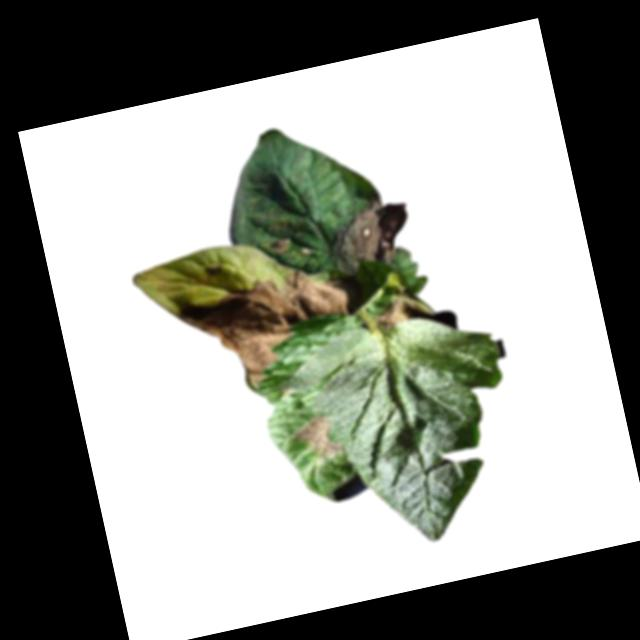Late_blight: (174, 258, 375, 397), (324, 195, 422, 284), (289, 410, 347, 465), (374, 288, 433, 327), (272, 235, 295, 259)
healthy: (278, 301, 535, 565)
